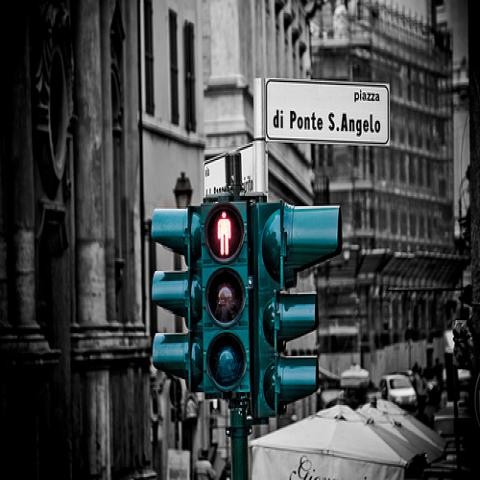car: (378, 375, 418, 408), (442, 364, 472, 390), (390, 368, 415, 385)
